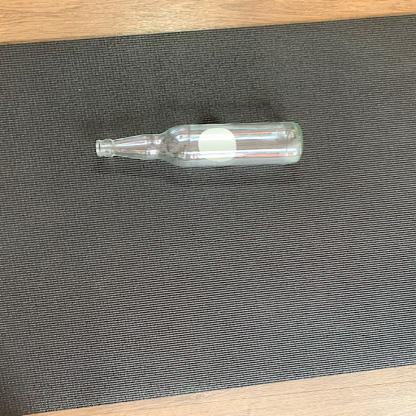trash: (95, 121, 306, 169)
